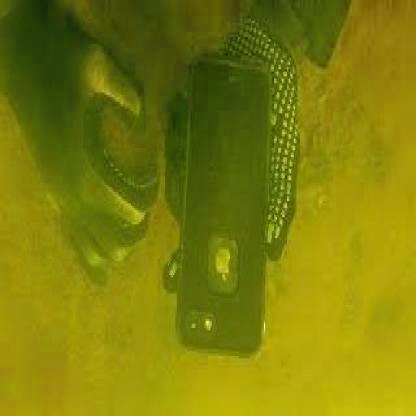cellphone: (174, 53, 276, 361)
